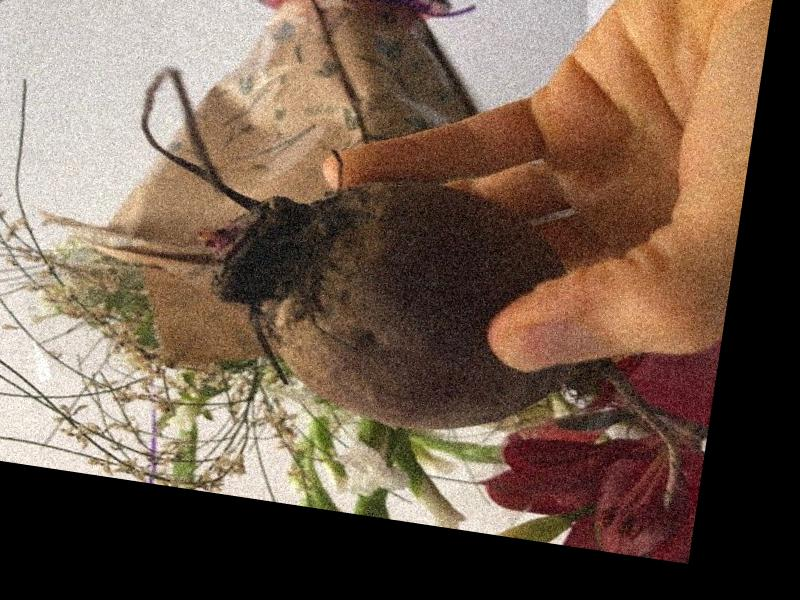Beet: (94, 65, 725, 506)
